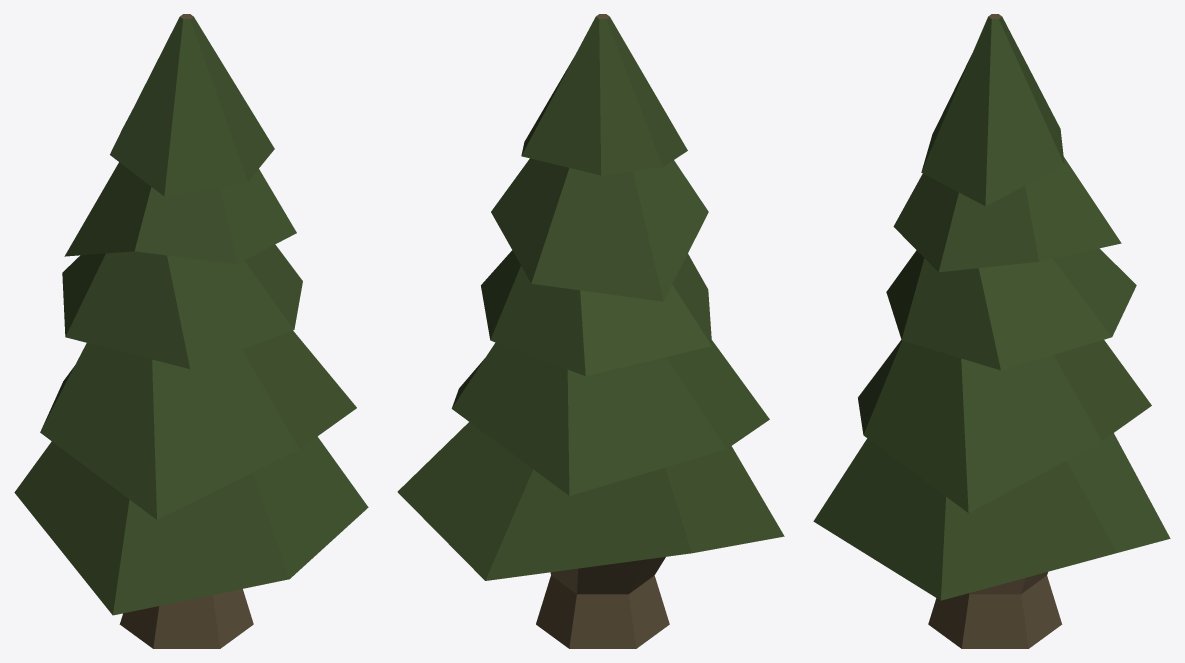
File: trewin.fbx
3 views of the same model, side by side, from view 1: azimuth 30°, elevation 25°; view 2: azimuth 150°, elevation 25°; view 3: azimuth 270°, elevation 25° (orthographic).
Visible parts, largest first — view 1: Cylinder1; view 2: Cylinder1; view 3: Cylinder1.
Boxes of the visible parts, x1,y1,x2,y2 form: Cylinder1: (14, 14, 368, 648); Cylinder1: (397, 14, 784, 648); Cylinder1: (813, 14, 1170, 648).
Size of the model in its own units: 2.66 by 5.28 by 2.81.
